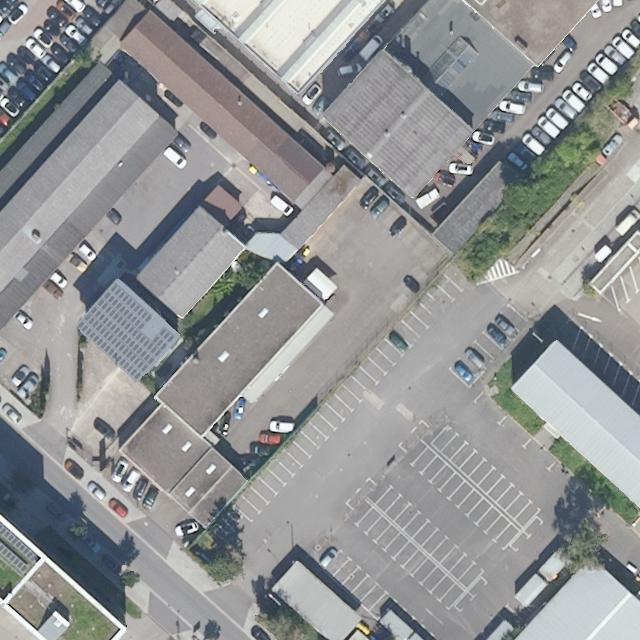PV: (70, 281, 181, 384), (1, 523, 42, 565), (2, 540, 32, 577)
